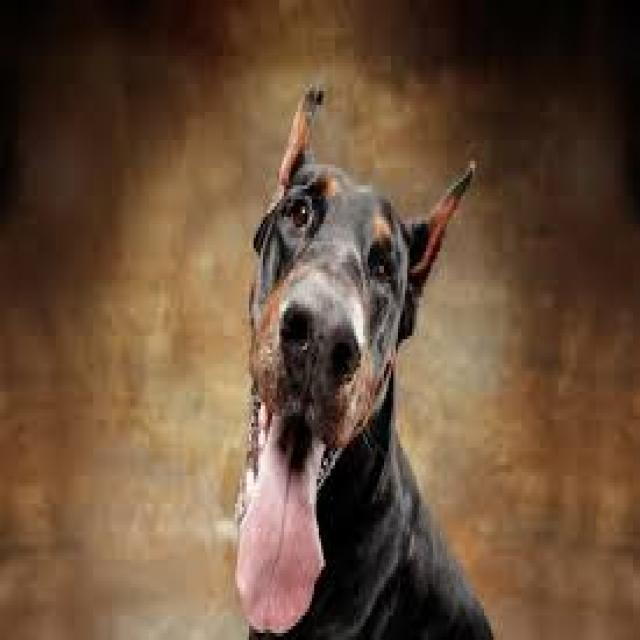Dog: (228, 73, 496, 640)
